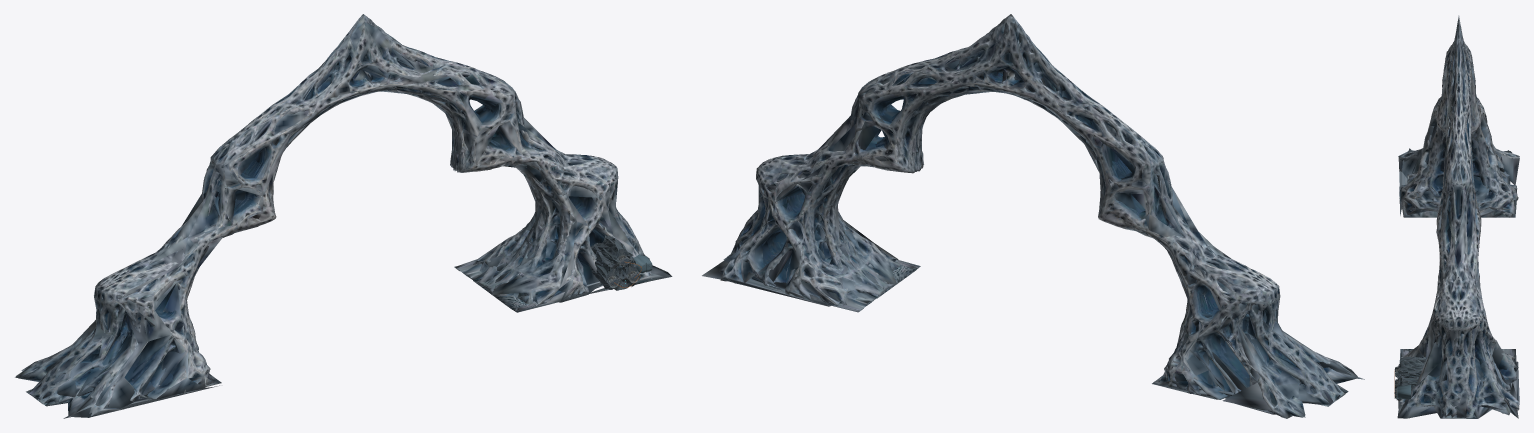
Rendered from terrasa-vrat-v21.glb.
3 views of the same model, side by side, from view 1: azimuth 30°, elevation 25°; view 2: azimuth 150°, elevation 25°; view 3: azimuth 270°, elevation 25° (orthographic). The views are drawn at different scales.
Visible parts, largest first — view 1: LOD0_Mineral, LOD2_Mineral, LOD1_Mineral; view 2: LOD0_Mineral, LOD1_Mineral, LOD2_Mineral; view 3: LOD0_Mineral, LOD1_Mineral, LOD2_Mineral.
Part boxes in pixels (bbox=[...]): LOD0_Mineral: bbox=[15, 14, 652, 418]; LOD2_Mineral: bbox=[29, 14, 672, 417]; LOD1_Mineral: bbox=[15, 14, 664, 415]; LOD0_Mineral: bbox=[720, 14, 1364, 417]; LOD1_Mineral: bbox=[719, 15, 1357, 418]; LOD2_Mineral: bbox=[702, 16, 1357, 411]; LOD0_Mineral: bbox=[1394, 16, 1519, 418]; LOD1_Mineral: bbox=[1394, 16, 1519, 418]; LOD2_Mineral: bbox=[1396, 15, 1519, 418].
Size of the model in its own units: 120 by 58.11 by 23.52.
3 materials, 1 textured.
